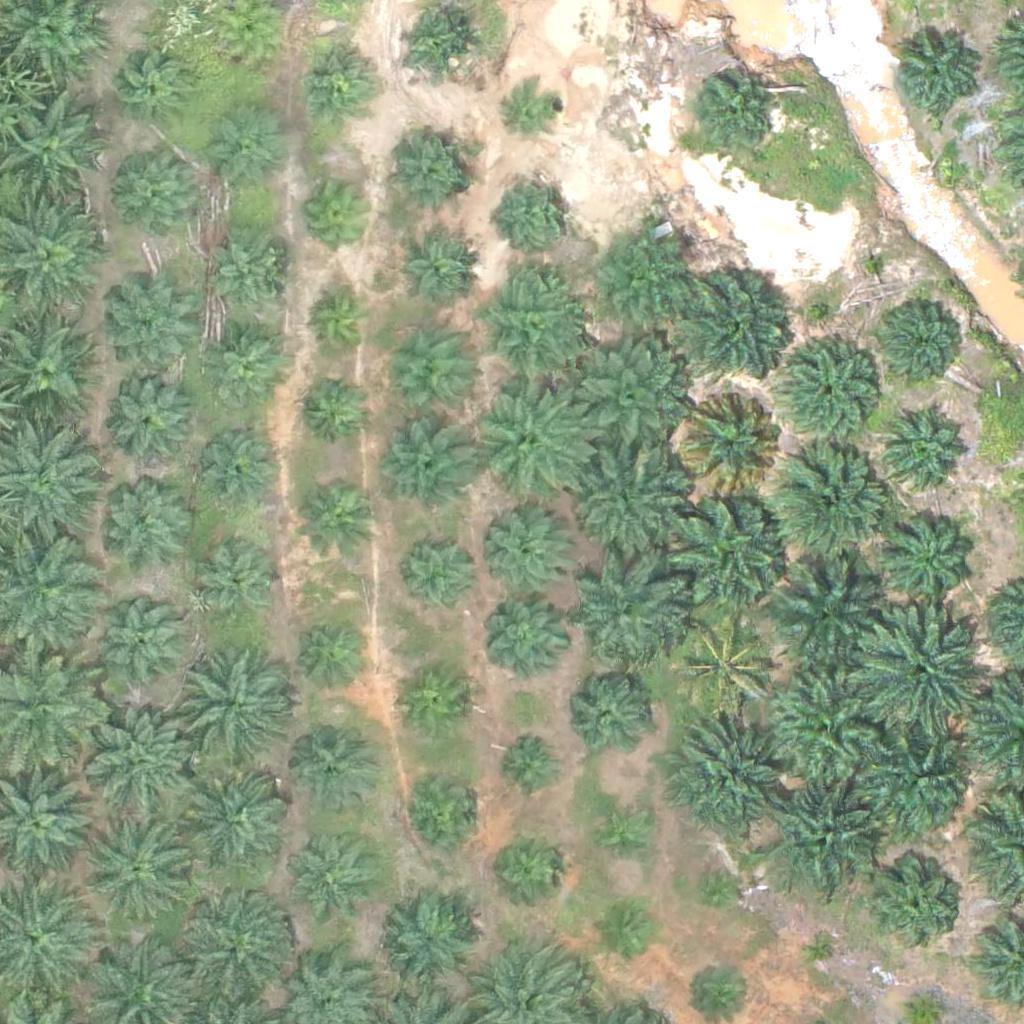Kelapa_Sawit: (177, 885, 302, 1011), (469, 373, 594, 499), (173, 646, 298, 772), (77, 694, 202, 820), (672, 258, 797, 384), (666, 492, 791, 618), (569, 439, 694, 565), (566, 545, 691, 671), (768, 434, 893, 560), (764, 665, 889, 791), (671, 712, 796, 838), (852, 608, 977, 734), (861, 727, 986, 853), (757, 771, 882, 897), (561, 338, 686, 463), (767, 550, 892, 675), (667, 606, 780, 720), (674, 387, 787, 500), (586, 221, 698, 335), (775, 337, 887, 451), (476, 273, 588, 386), (375, 895, 475, 996), (483, 498, 583, 599), (3, 104, 103, 205), (876, 502, 976, 603), (865, 854, 965, 955), (178, 769, 278, 869), (87, 817, 187, 917), (375, 329, 475, 429), (389, 134, 477, 222), (287, 831, 375, 919), (481, 592, 569, 680), (201, 327, 289, 415), (198, 544, 286, 632), (107, 284, 195, 372), (104, 373, 192, 461), (101, 601, 189, 689), (892, 32, 980, 120), (113, 153, 200, 242), (393, 231, 480, 319), (691, 73, 778, 161), (384, 419, 471, 507), (200, 235, 287, 323), (192, 429, 279, 517), (98, 484, 185, 572), (287, 724, 374, 812), (561, 672, 648, 760), (884, 402, 971, 490), (879, 297, 966, 385), (397, 9, 472, 85), (300, 484, 375, 560), (295, 373, 370, 449), (301, 285, 376, 361), (499, 172, 574, 248), (400, 776, 475, 852), (114, 52, 189, 127), (211, 116, 286, 191), (298, 43, 373, 118), (304, 176, 379, 251), (297, 620, 372, 695), (397, 660, 472, 735), (406, 540, 481, 615), (488, 834, 563, 909), (591, 807, 654, 870), (504, 81, 566, 144), (498, 730, 560, 793), (596, 903, 659, 965), (690, 863, 740, 913), (804, 925, 841, 963)
